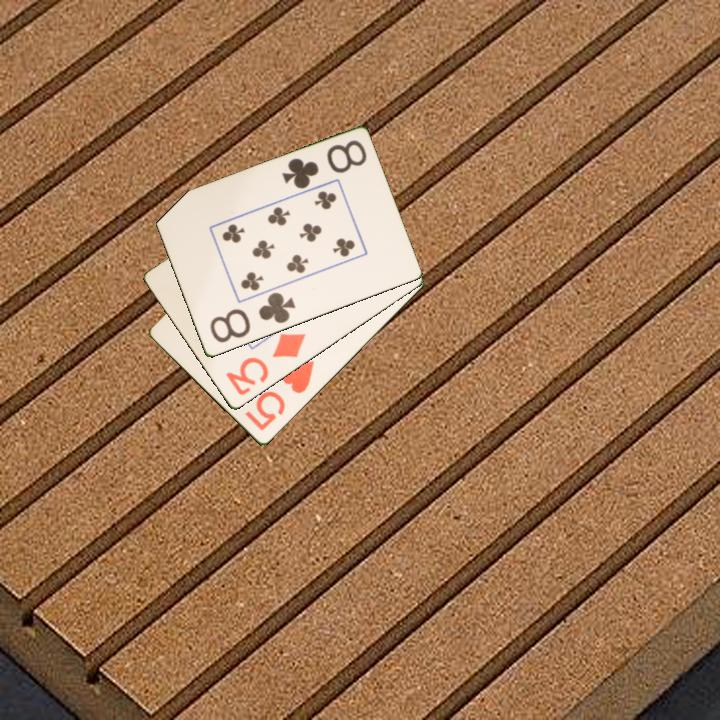3d: (222, 330, 309, 399)
5h: (241, 357, 317, 434)
8c: (206, 289, 298, 346), (278, 137, 369, 192)
